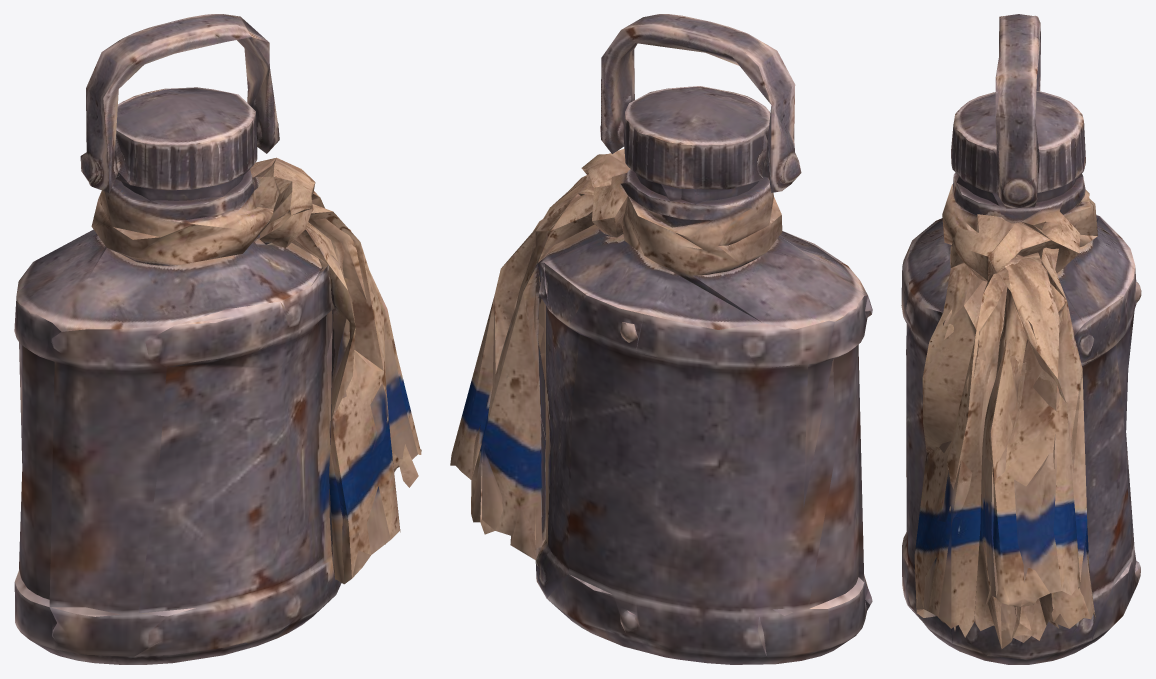
The model's file is canteen.glb.
3 renders of one model, left to right at view 1: azimuth 30°, elevation 25°; view 2: azimuth 150°, elevation 25°; view 3: azimuth 270°, elevation 25°, orthographic. The views are drawn at different scales.
Visible parts, largest first — view 1: Mesh_0; view 2: Mesh_0; view 3: Mesh_0.
Boxes of the visible parts, bbox=[...] form: Mesh_0: bbox=[14, 14, 421, 664]; Mesh_0: bbox=[450, 14, 872, 664]; Mesh_0: bbox=[901, 14, 1141, 664].
Size of the model in its own units: 1.32 by 1.9 by 0.7282.
1 material, 1 textured.
